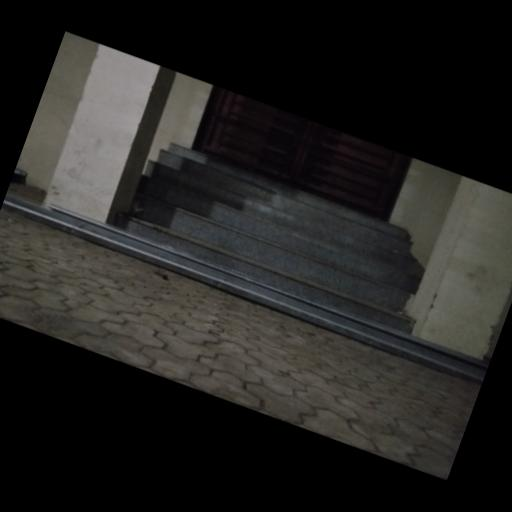stairs: (115, 145, 418, 333)
